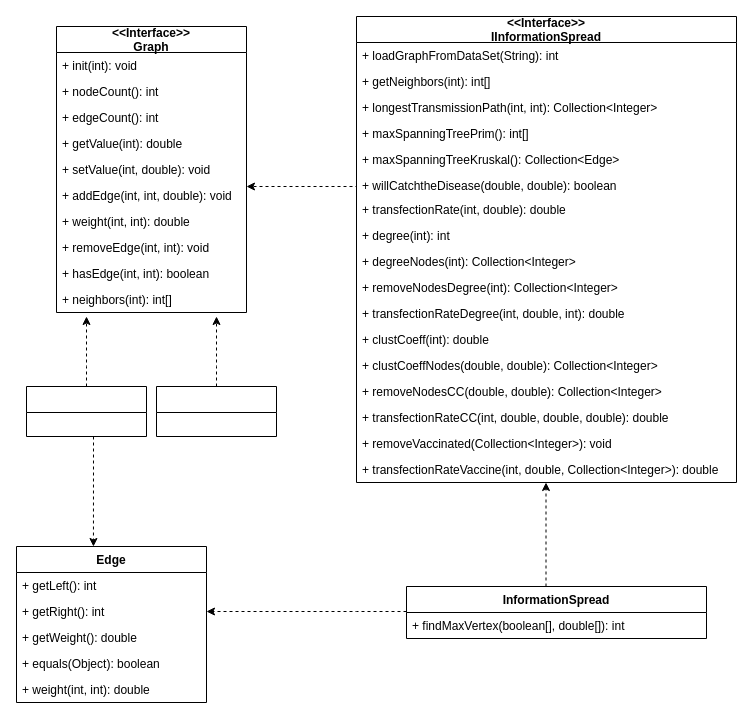
The diagram is 753 pixels wide and 719 high, and some of its shapes have lost their labels. Here are the shapes that lost their labels. From the top down, the centre of each, then its label:
At point 86,411: "GraphL".
At point 216,411: "GraphM".
